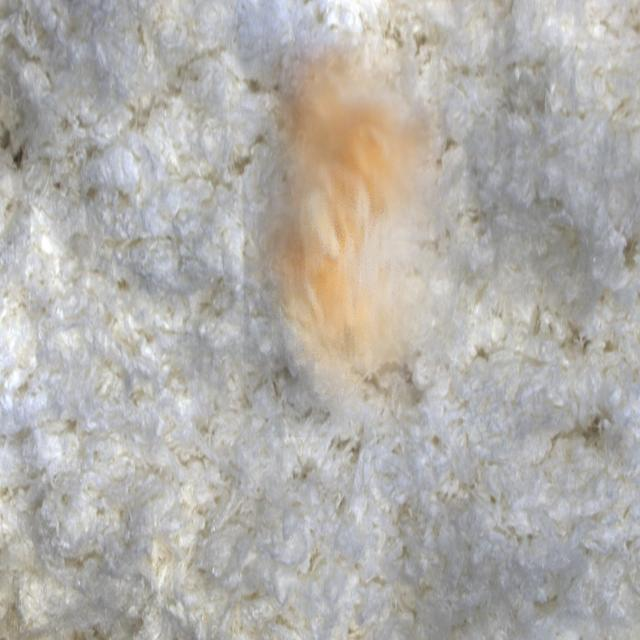dust: (244, 32, 465, 437)
